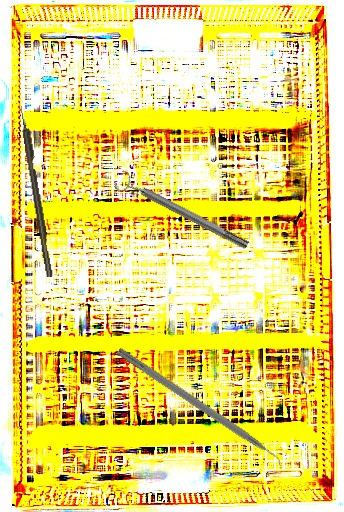Chopper: (109, 346, 290, 478)
Fixation Ring: (113, 168, 252, 257)
Hook Surgical: (18, 105, 54, 278)
